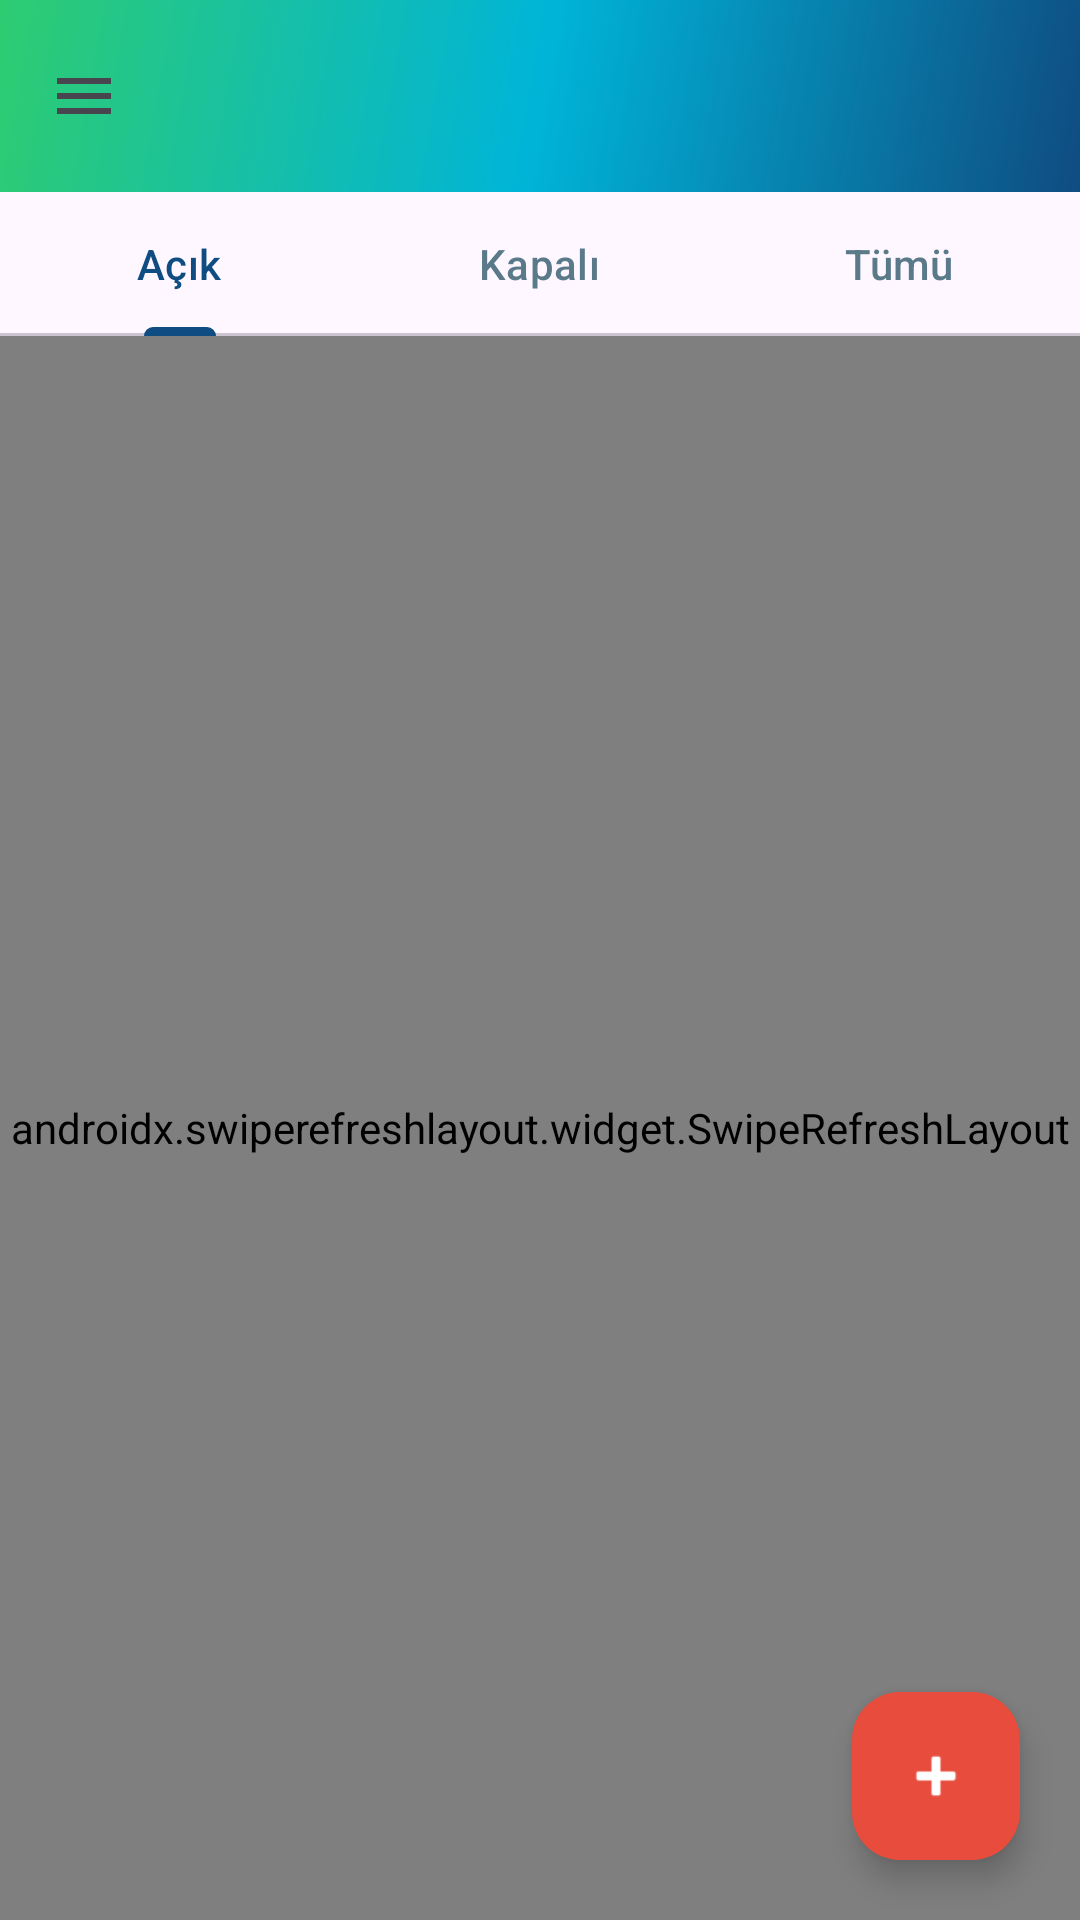

Icon bounding boxes for this 1080px×1920px phone screenshot, format (x1, y1, x2, y2):
Ekle: (852, 1692, 1020, 1860)
